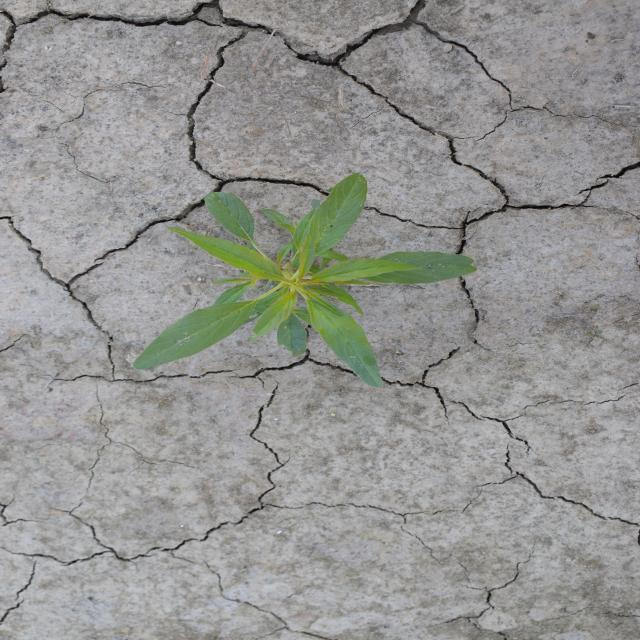Waterhemp: (130, 170, 480, 389)
